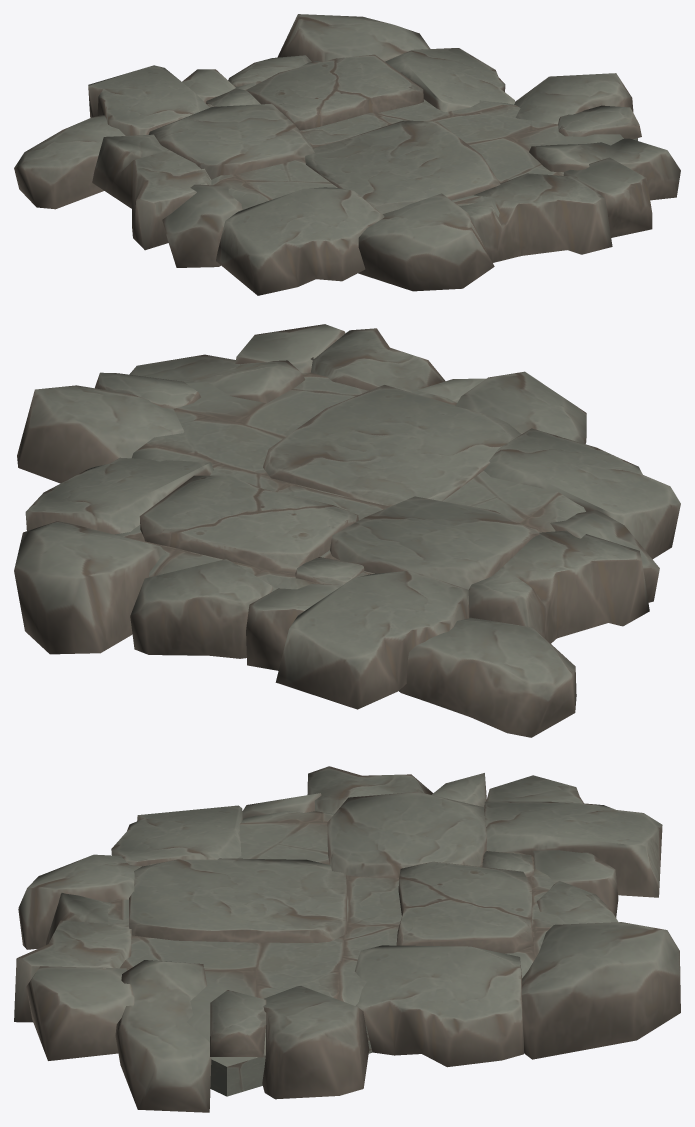
The model's file is SM_FW01_Ruins_Int_Floor_Chunk_04.fbx.
3 views of the same model, one above another, from view 1: azimuth 30°, elevation 25°; view 2: azimuth 150°, elevation 25°; view 3: azimuth 270°, elevation 25° (orthographic). The views are drawn at different scales.
Parts seen in each view (by area): view 1: SM_FW01_Ruins_Int_Floor_Chunk_04_LOD0, SM_FW01_Ruins_Int_Floor_Chunk_04; view 2: SM_FW01_Ruins_Int_Floor_Chunk_04_LOD0, SM_FW01_Ruins_Int_Floor_Chunk_04; view 3: SM_FW01_Ruins_Int_Floor_Chunk_04_LOD0, SM_FW01_Ruins_Int_Floor_Chunk_04.
Part boxes in pixels (bbox=[...]): SM_FW01_Ruins_Int_Floor_Chunk_04_LOD0: bbox=[14, 14, 680, 295]; SM_FW01_Ruins_Int_Floor_Chunk_04: bbox=[206, 61, 637, 216]; SM_FW01_Ruins_Int_Floor_Chunk_04_LOD0: bbox=[14, 324, 680, 737]; SM_FW01_Ruins_Int_Floor_Chunk_04: bbox=[115, 372, 585, 591]; SM_FW01_Ruins_Int_Floor_Chunk_04_LOD0: bbox=[14, 766, 680, 1112]; SM_FW01_Ruins_Int_Floor_Chunk_04: bbox=[103, 811, 566, 1096].
Size of what is drawn, in the model's own units: 2.4 by 0.3419 by 2.21.
